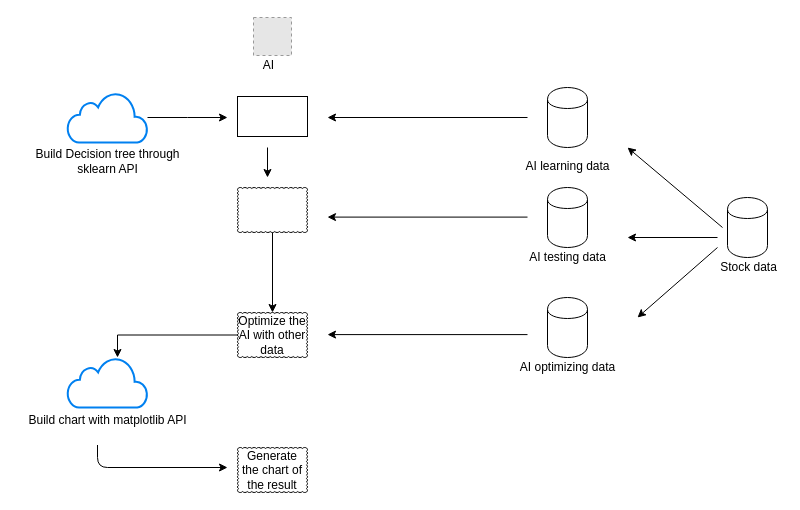
Some shapes in this 800 by 510 pixel diagram are drawn without their labels. Grey dashed boxes stand in for pictures. The centre of each missing label's shape, as x and y in pixels:
Decision Tree: the point at 272,116
Test the AI for learnt logic: the point at 272,209
